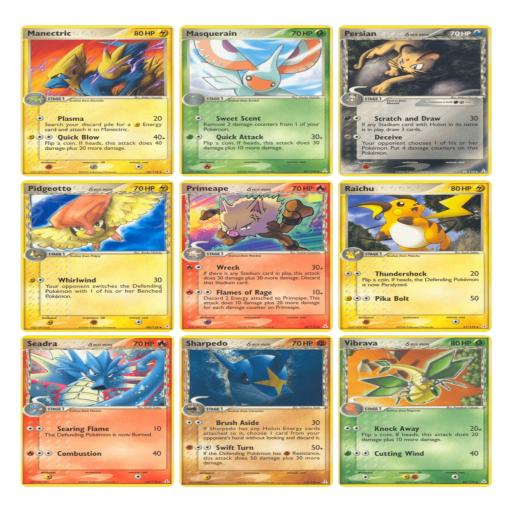card: (338, 179, 492, 332), (21, 180, 175, 333), (179, 180, 334, 332), (339, 25, 493, 177), (179, 335, 333, 487), (20, 25, 174, 177), (21, 335, 175, 487), (339, 335, 492, 487), (180, 25, 334, 176)
